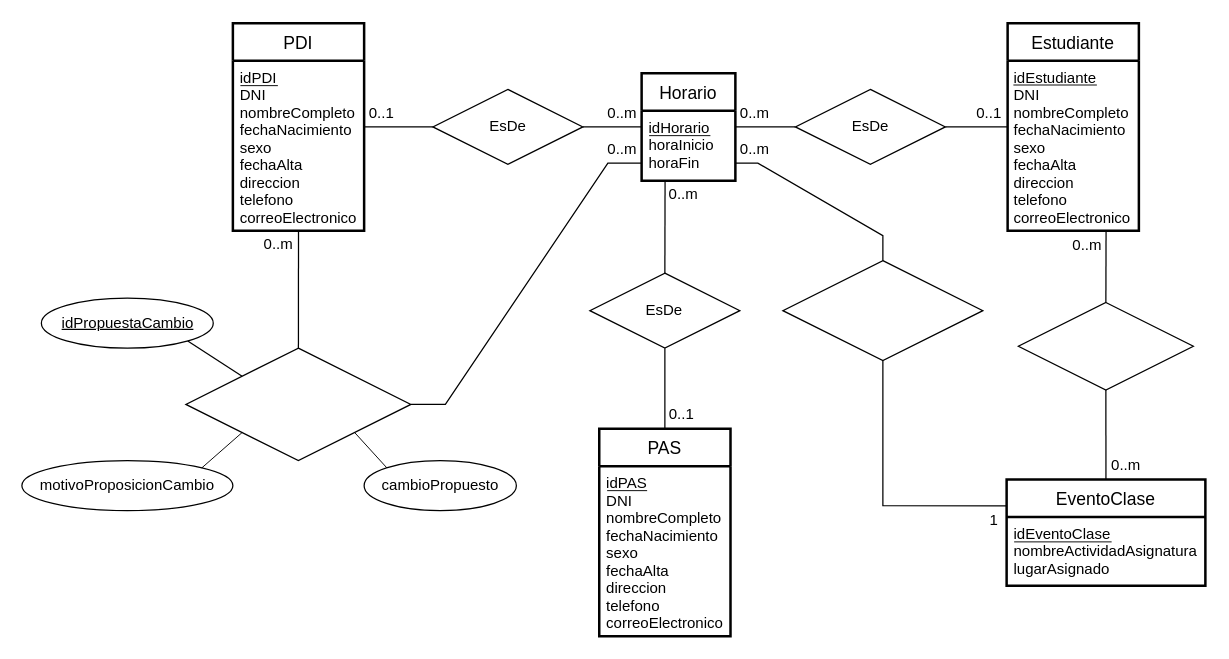
Image size: 1229x659. Some labels were removed from this diagram. Each missing label, with the box of its shape:
PerteneceA: (1017, 301, 1193, 390)
ProponeCambioEn: (185, 347, 411, 461)
TieneLugarEnUn: (782, 259, 983, 361)
